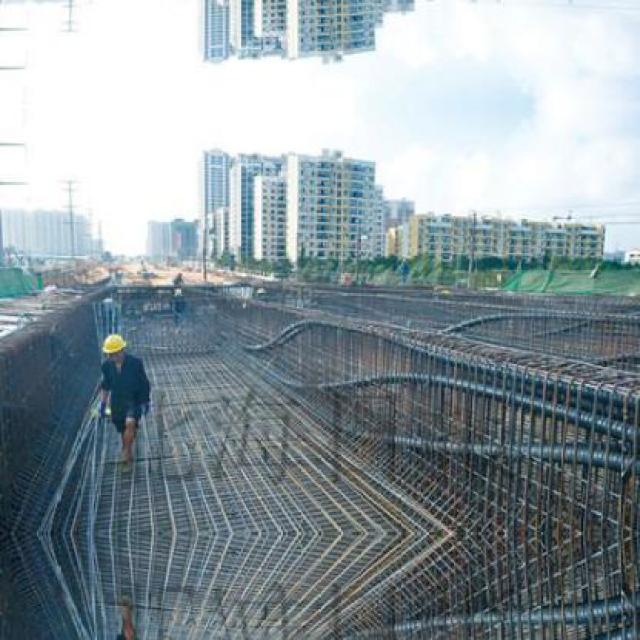helmet: (100, 332, 128, 363)
